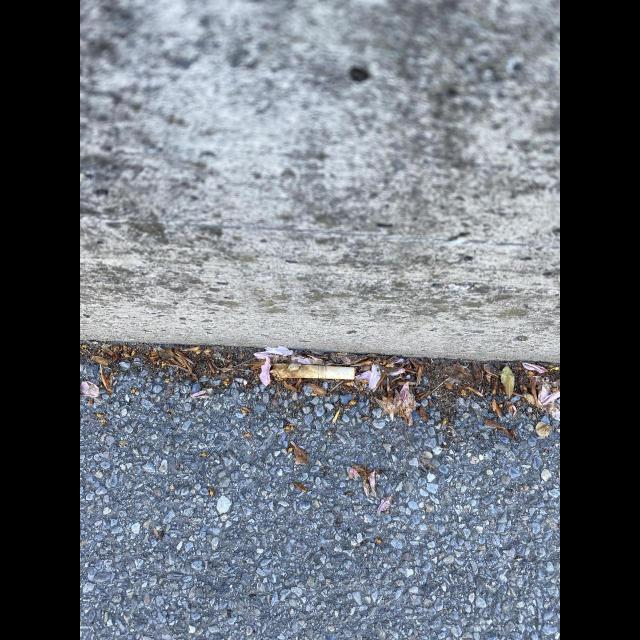cigarette: (270, 363, 354, 379)
